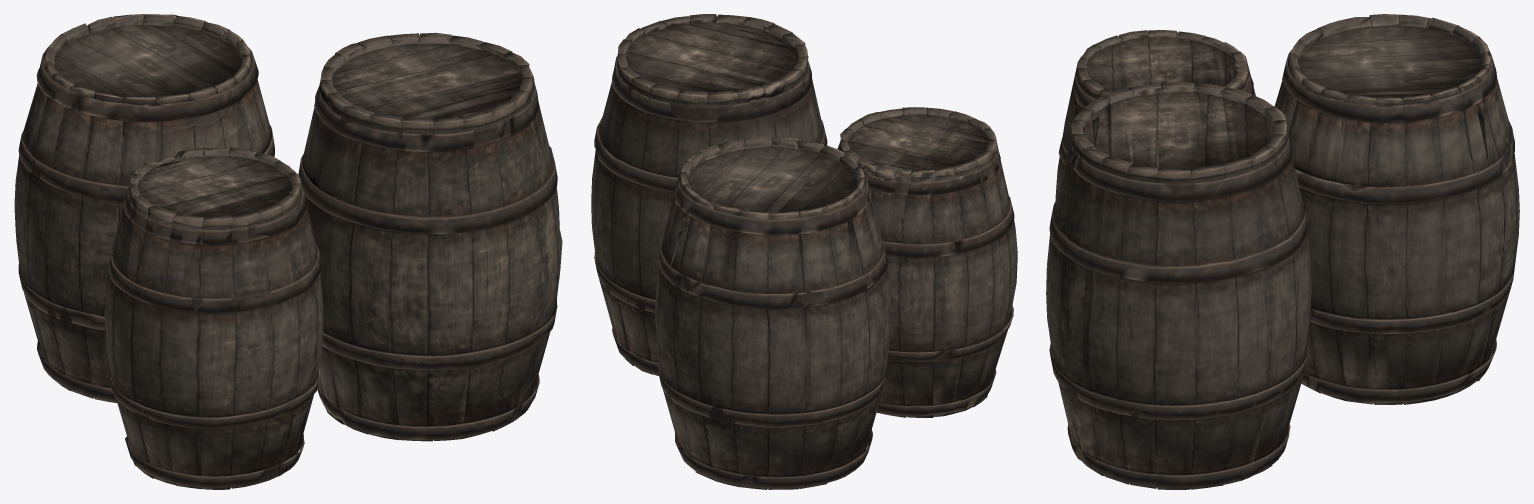
Rendered from des-barrels-intact_optimized.glb.
The picture shows the model from 3 angles, left to right: view 1: azimuth 30°, elevation 25°; view 2: azimuth 150°, elevation 25°; view 3: azimuth 270°, elevation 25°; orthographic projection. The views are drawn at different scales.
Visible parts, largest first — view 1: Mesh_0; view 2: Mesh_0; view 3: Mesh_0.
Boxes of the visible parts, x1,y1,x2,y2 form: Mesh_0: [14, 14, 562, 489]; Mesh_0: [591, 14, 1017, 489]; Mesh_0: [1046, 14, 1519, 489].
Bounding box in the file's own units: 0.9536 × 0.6787 × 0.9111.
Materials: 1 (1 with a texture image).
